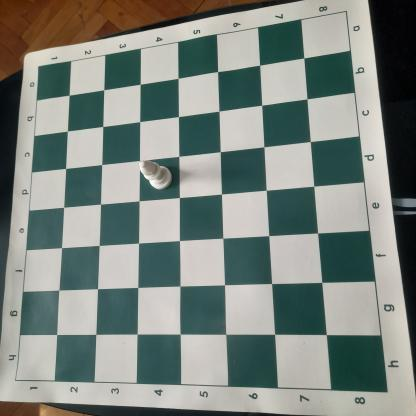white-bishop: (138, 158, 174, 192)
